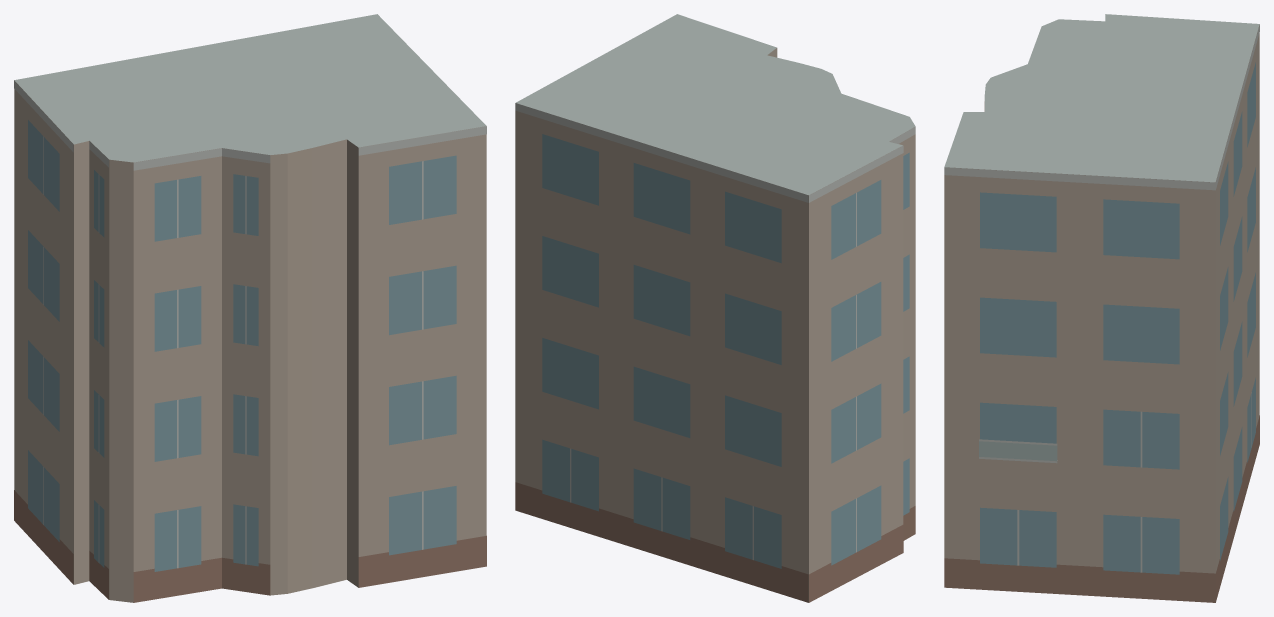
Rendered from survey-upis-32734769.glb.
The picture shows the model from 3 angles, left to right: view 1: azimuth 30°, elevation 25°; view 2: azimuth 150°, elevation 25°; view 3: azimuth 270°, elevation 25°; orthographic projection. The views are drawn at different scales.
Parts seen in each view (by area): view 1: survey-upis-32734769.tmp; view 2: survey-upis-32734769.tmp; view 3: survey-upis-32734769.tmp.
Part boxes in pixels (x1=…): survey-upis-32734769.tmp: x1=14, y1=14, x2=486, y2=602; survey-upis-32734769.tmp: x1=515, y1=14, x2=915, y2=602; survey-upis-32734769.tmp: x1=944, y1=14, x2=1259, y2=602.
Size of the model in its own units: 11.13 by 12.95 by 8.82.
